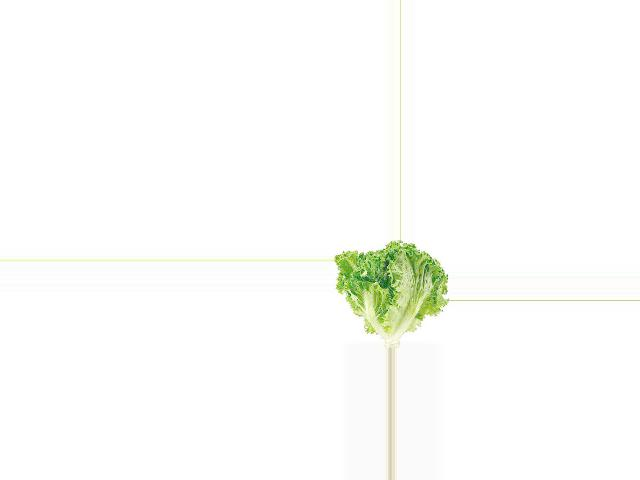lettuce: (335, 241, 448, 348)
